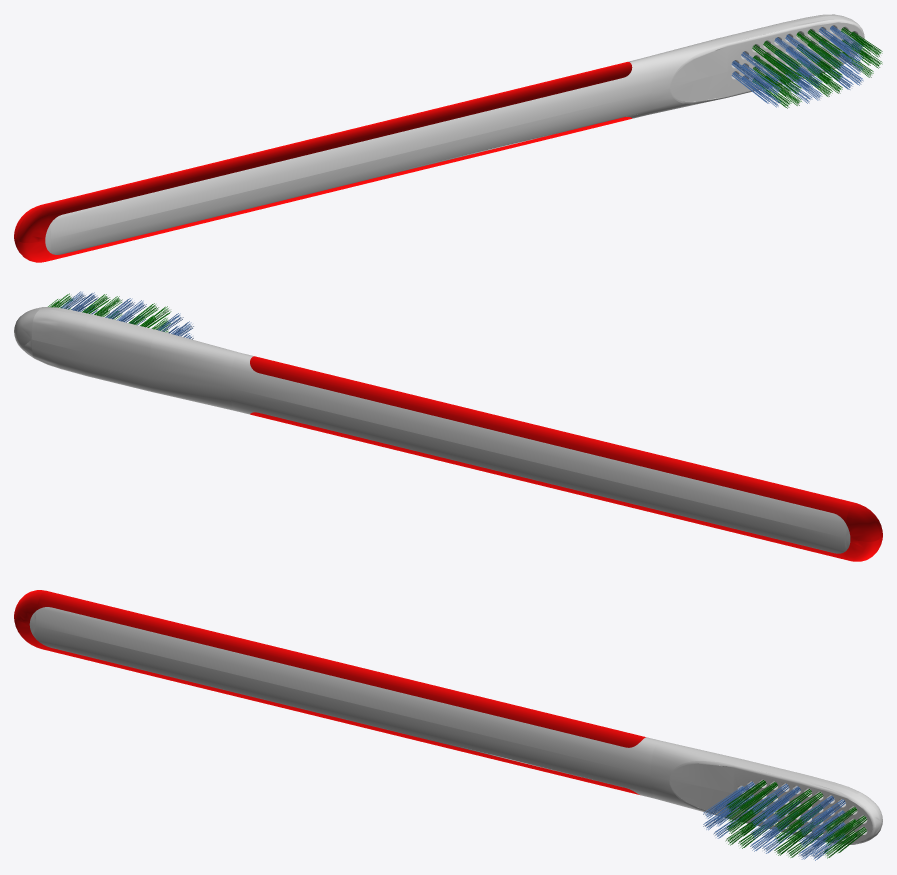
The model's file is scalare-33-b.obj.
The picture shows the model from 3 angles, top to bottom: view 1: azimuth 30°, elevation 25°; view 2: azimuth 150°, elevation 25°; view 3: azimuth 330°, elevation 25°; orthographic projection. The views are drawn at different scales.
Visible parts, largest first — view 1: corpo_spazzolino, corpo_spazzolino_rosso, setole_blu, setole_verdi; view 2: corpo_spazzolino, corpo_spazzolino_rosso, setole_blu, setole_verdi; view 3: corpo_spazzolino, corpo_spazzolino_rosso, setole_blu, setole_verdi.
Part boxes in pixels (left/top/right/bottom): corpo_spazzolino: left=45, top=14, right=864, bottom=254; corpo_spazzolino_rosso: left=14, top=62, right=632, bottom=262; setole_blu: left=731, top=25, right=863, bottom=107; setole_verdi: left=752, top=27, right=882, bottom=108; corpo_spazzolino: left=14, top=307, right=850, bottom=553; corpo_spazzolino_rosso: left=250, top=356, right=882, bottom=561; setole_blu: left=60, top=291, right=193, bottom=339; setole_verdi: left=48, top=293, right=171, bottom=332; corpo_spazzolino: left=29, top=607, right=882, bottom=844; corpo_spazzolino_rosso: left=14, top=590, right=645, bottom=794; setole_blu: left=703, top=781, right=845, bottom=860; setole_verdi: left=725, top=780, right=866, bottom=858.
Bounding box in the file's own units: 0.7205 × 0.0453 × 0.0708.
